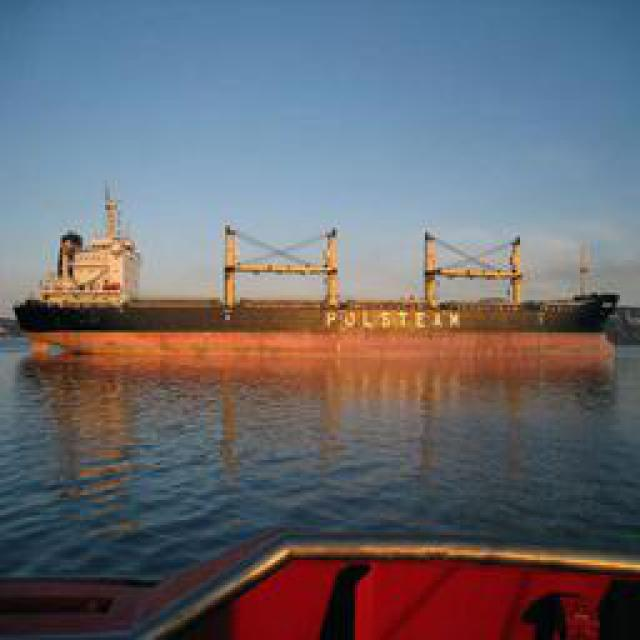Ship: (20, 184, 624, 367)
